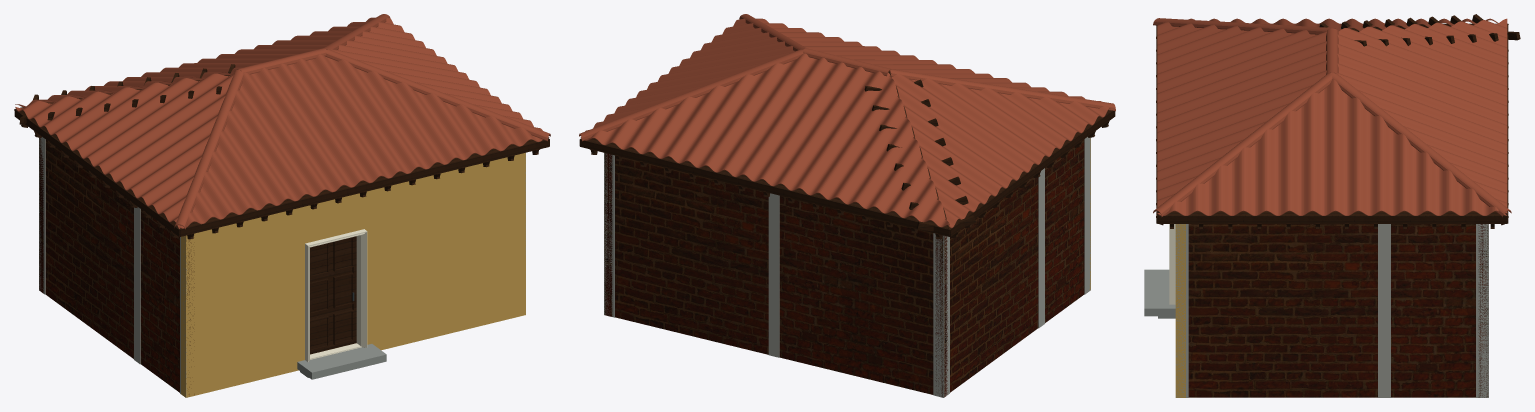
Rendered from building.glb.
3 views of the same model, side by side, from view 1: azimuth 30°, elevation 25°; view 2: azimuth 150°, elevation 25°; view 3: azimuth 270°, elevation 25° (orthographic). The views are drawn at different scales.
Visible parts, largest first — view 1: house:0/edge0/z0/house:0/edge0/z0/wall_0_0, house:0/edge3/z0/house:0/edge3/z0/wall_0_0, roof_assembly/cubierta/roof_fascia#0003, site/entrance/0/entrance_step#0002, roof_assembly/cubierta/roof_fascia#0001, house:0/edge3/z0/house:0/edge3/z0/column_2_0, house:0/edge0/z0/opening_u2.80_v0.12/door_panel_back#0001, house:0/edge0/z0/opening_u2.80_v0.12/door_reveal#0001, roof_assembly/cubierta/roof_substrate#0002, house:0/edge3/z0/house:0/edge3/z0/column_0_0, house:0/edge2/z0/house:0/edge2/z0/wall_0_0, house:0/edge0/z0/opening_u2.80_v0.12/door_leaf_frame#0001 (+7 smaller); view 2: house:0/edge2/z0/house:0/edge2/z0/wall_0_0, house:0/edge3/z0/house:0/edge3/z0/wall_0_0, roof_assembly/cubierta/roof_fascia#0006, house:0/edge2/z0/house:0/edge2/z0/column_2_0, house:0/edge2/z0/house:0/edge2/z0/column_1_0, roof_assembly/cubierta/roof_fascia#0001, house:0/edge1/z0/house:0/edge1/z0/wall_0_0, house:0/edge2/z0/house:0/edge2/z0/column_0_0, house:0/edge3/z0/house:0/edge3/z0/column_1_0, house:0/edge3/z0/house:0/edge3/z0/column_2_0, house:0/edge3/z0/house:0/edge3/z0/column_0_0, roof_assembly/cubierta/roof_substrate#0004; view 3: house:0/edge1/z0/house:0/edge1/z0/wall_0_0, roof_assembly/cubierta/roof_fascia#0004, house:0/edge1/z0/house:0/edge1/z0/column_2_0, house:0/edge1/z0/house:0/edge1/z0/column_1_0, house:0/edge0/z0/house:0/edge0/z0/wall_0_0, house:0/edge1/z0/house:0/edge1/z0/column_0_0, site/entrance/0/entrance_step#0002, house:0/edge2/z0/house:0/edge2/z0/wall_0_0, roof_assembly/cubierta/roof_substrate#0003, house:0/edge0/z0/opening_u2.80_v0.12/door_moulding#0028, roof_assembly/cubierta/roof_fascia#0003, roof_assembly/cubierta/roof_fascia#0006.
Part boxes in pixels (box(x1,y1,x2,y2)): house:0/edge0/z0/house:0/edge0/z0/wall_0_0: box(181, 153, 525, 397); house:0/edge3/z0/house:0/edge3/z0/wall_0_0: box(45, 139, 194, 394); roof_assembly/cubierta/roof_fascia#0003: box(179, 139, 549, 236); site/entrance/0/entrance_step#0002: box(297, 344, 386, 379); roof_assembly/cubierta/roof_fascia#0001: box(14, 109, 179, 236); house:0/edge3/z0/house:0/edge3/z0/column_2_0: box(134, 207, 140, 364); house:0/edge0/z0/opening_u2.80_v0.12/door_panel_back#0001: box(310, 242, 352, 345); house:0/edge0/z0/opening_u2.80_v0.12/door_reveal#0001: box(305, 229, 364, 359); roof_assembly/cubierta/roof_substrate#0002: box(180, 139, 544, 228); house:0/edge3/z0/house:0/edge3/z0/column_0_0: box(39, 137, 45, 294); house:0/edge2/z0/house:0/edge2/z0/wall_0_0: box(39, 138, 43, 293); house:0/edge0/z0/opening_u2.80_v0.12/door_leaf_frame#0001: box(310, 236, 356, 354); house:0/edge2/z0/house:0/edge2/z0/wall_0_0: box(615, 155, 947, 397); house:0/edge3/z0/house:0/edge3/z0/wall_0_0: box(935, 139, 1084, 397); roof_assembly/cubierta/roof_fascia#0006: box(580, 139, 949, 236); house:0/edge2/z0/house:0/edge2/z0/column_2_0: box(768, 193, 779, 357); house:0/edge2/z0/house:0/edge2/z0/column_1_0: box(933, 233, 944, 397); roof_assembly/cubierta/roof_fascia#0001: box(950, 110, 1115, 236); house:0/edge1/z0/house:0/edge1/z0/wall_0_0: box(604, 153, 612, 316); house:0/edge2/z0/house:0/edge2/z0/column_0_0: box(604, 153, 614, 317); house:0/edge3/z0/house:0/edge3/z0/column_1_0: box(1084, 137, 1090, 294); house:0/edge3/z0/house:0/edge3/z0/column_2_0: box(1038, 168, 1044, 328); house:0/edge3/z0/house:0/edge3/z0/column_0_0: box(943, 236, 949, 397); roof_assembly/cubierta/roof_substrate#0004: box(588, 138, 948, 228); house:0/edge1/z0/house:0/edge1/z0/wall_0_0: box(1188, 224, 1475, 397); roof_assembly/cubierta/roof_fascia#0004: box(1157, 215, 1507, 223); house:0/edge1/z0/house:0/edge1/z0/column_2_0: box(1378, 224, 1390, 397); house:0/edge1/z0/house:0/edge1/z0/column_1_0: box(1476, 224, 1488, 397); house:0/edge0/z0/house:0/edge0/z0/wall_0_0: box(1175, 224, 1185, 397); house:0/edge1/z0/house:0/edge1/z0/column_0_0: box(1175, 224, 1188, 397); site/entrance/0/entrance_step#0002: box(1144, 269, 1175, 316); house:0/edge2/z0/house:0/edge2/z0/wall_0_0: box(1478, 224, 1488, 397); roof_assembly/cubierta/roof_substrate#0003: box(1159, 211, 1504, 215); house:0/edge0/z0/opening_u2.80_v0.12/door_moulding#0028: box(1169, 224, 1175, 304); roof_assembly/cubierta/roof_fascia#0003: box(1156, 25, 1158, 223); roof_assembly/cubierta/roof_fascia#0006: box(1506, 24, 1508, 223).
Bounding box in the file's own units: 9.04 × 5.52 × 7.21.
Materials: 8 (2 with a texture image).
